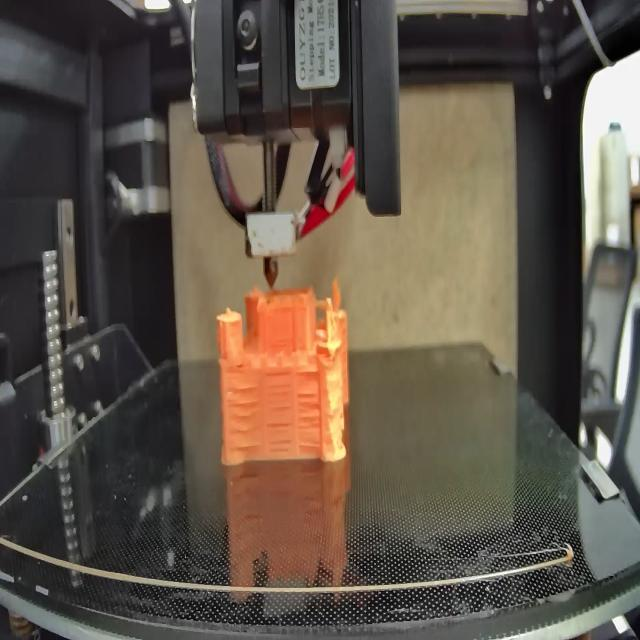cracks: (226, 384, 260, 449), (297, 389, 324, 452), (264, 365, 295, 411), (266, 418, 294, 453), (233, 358, 251, 374), (296, 366, 318, 377)
